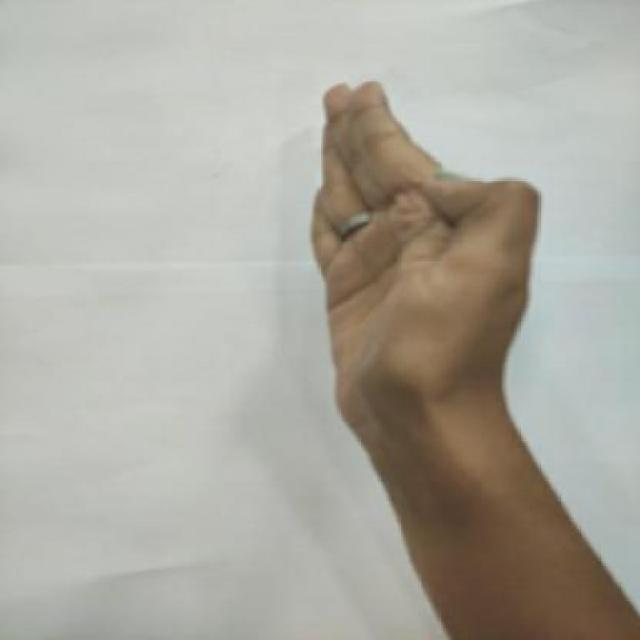without_gloves: (264, 59, 592, 516)
